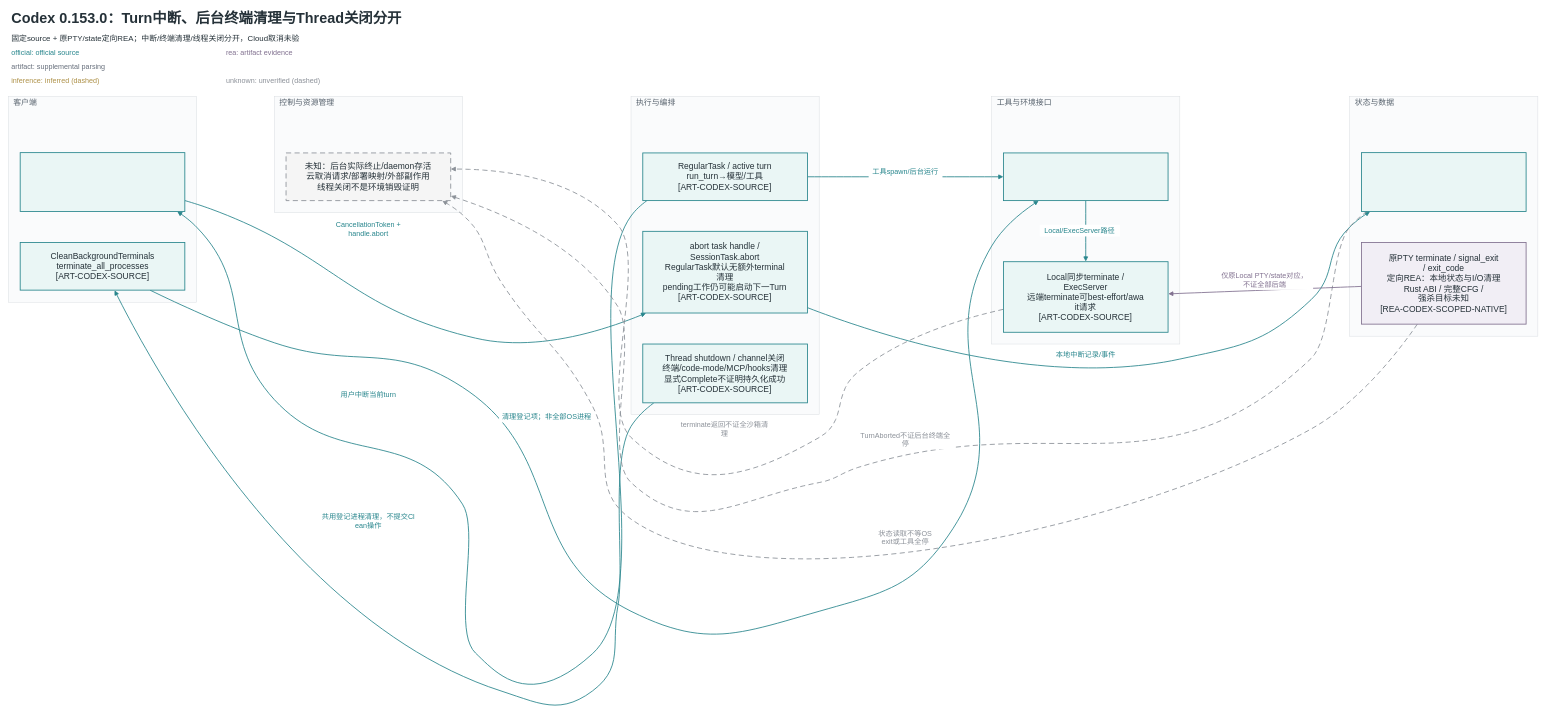
The diagram is 1547 pixels wide and 718 high, and some of its shapes have lost their labels. The centre of each missing label's shape, as x and y in pixels:
Op::Interrupt→当前task中断 100ms仅协作等待段，非整体时限 条件CodeMode/MCP启动取消 [ART-CODEX-SOURCE]: (x=102, y=182)
UnifiedExec登记的后台终端 不等于机器全部进程 [ART-CODEX-SOURCE]: (x=1085, y=176)
中断hooks / history marker TurnAborted事件 / rollout flush尝试 [ART-CODEX-SOURCE]: (x=1443, y=182)
